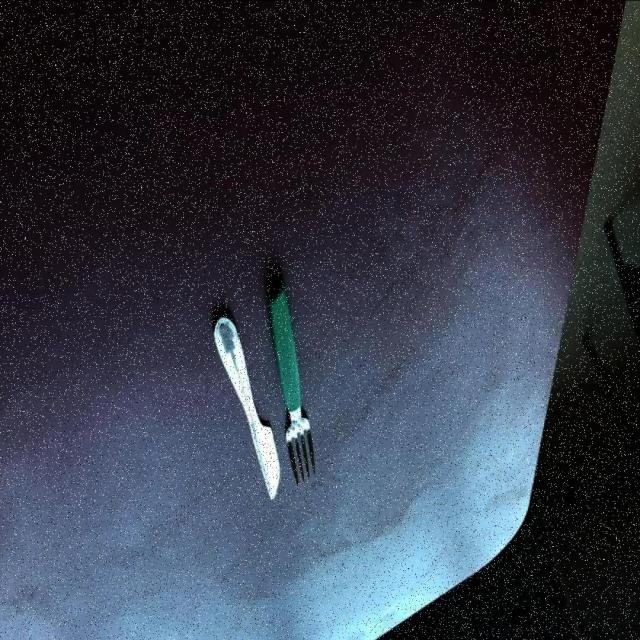Fork: (266, 274, 316, 489)
Knife: (212, 317, 280, 503), (266, 274, 316, 489)
